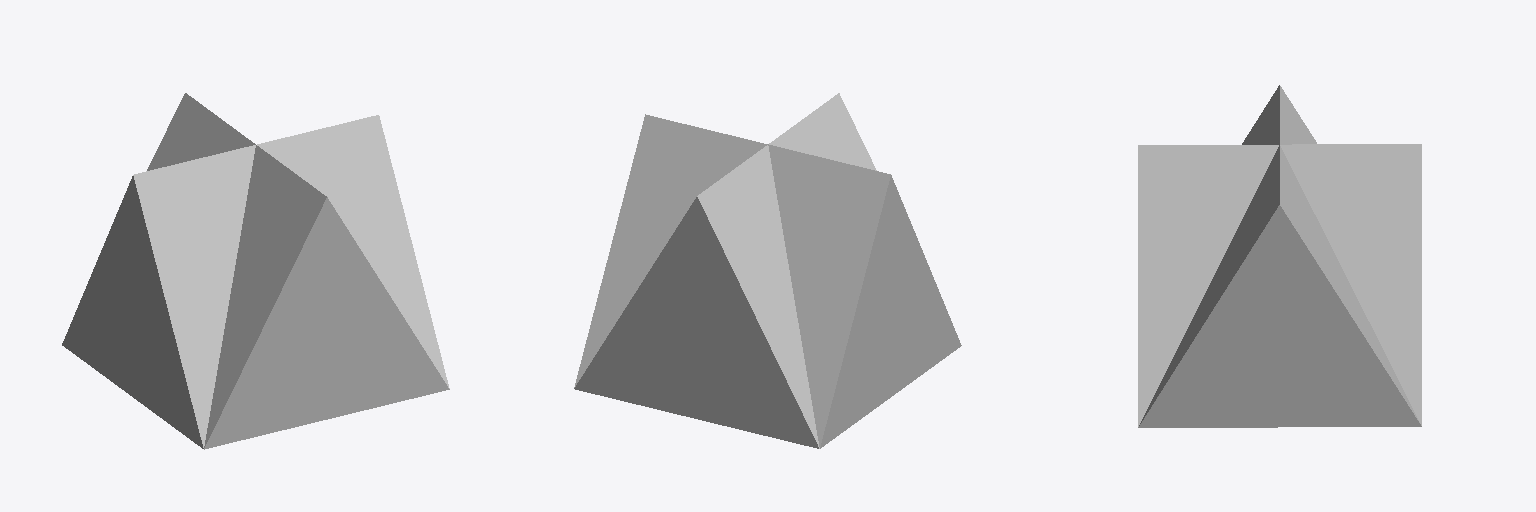
Rendered from Gyrobifastigium.obj.
3 renders of one model, left to right at view 1: azimuth 30°, elevation 25°; view 2: azimuth 150°, elevation 25°; view 3: azimuth 270°, elevation 25°, orthographic.
Parts seen in each view (by area): view 1: GyroBiFastigium; view 2: GyroBiFastigium; view 3: GyroBiFastigium.
Part boxes in pixels (bbox=[...]): GyroBiFastigium: bbox=[62, 93, 449, 449]; GyroBiFastigium: bbox=[574, 93, 961, 448]; GyroBiFastigium: bbox=[1138, 85, 1421, 427].
Bounding box in the file's own units: 0.75 × 0.6514 × 0.7516.